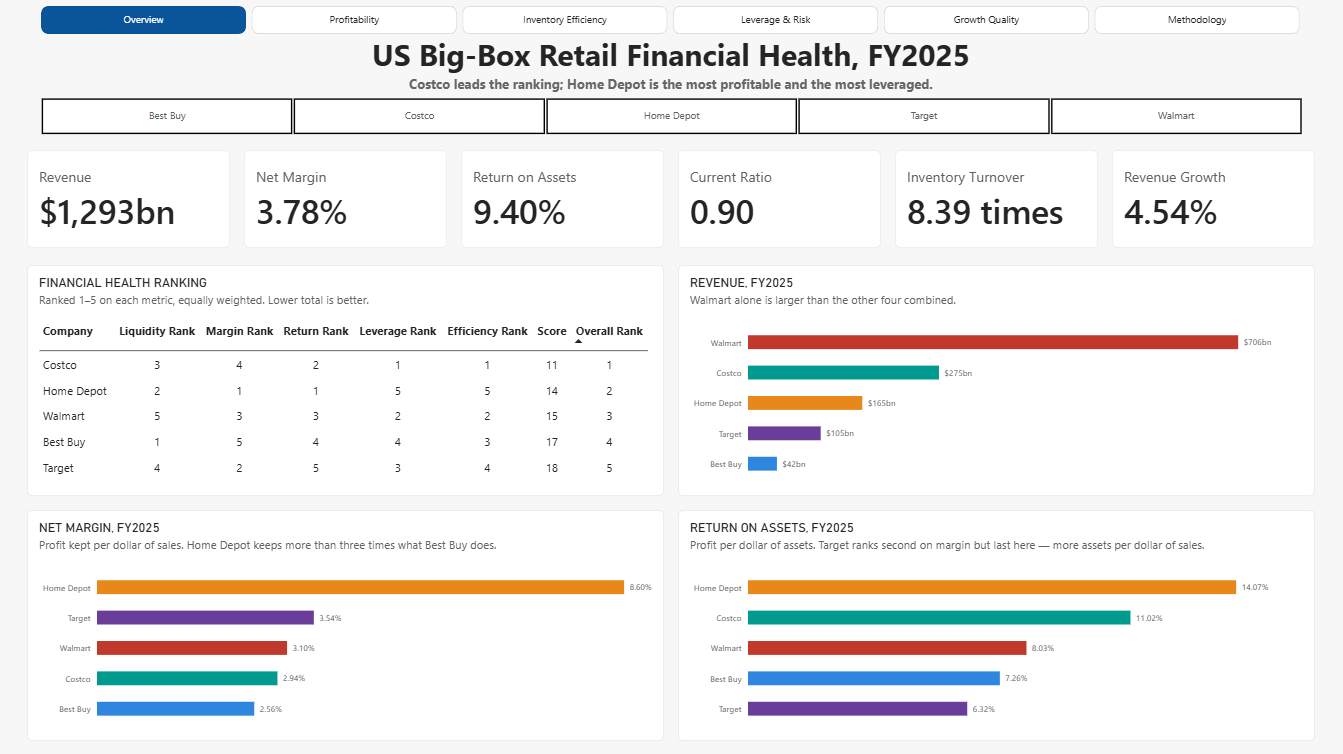

Layout of this report page (visuals, bound fields, positions):
{"tool":"powerbi","page":{"name":"Overview","canvas":[1920,1080],"ordinal":0},"visuals":[{"type":"cardVisual","fields":{"Data":["_Measures.Revenue Total"]},"box":[40,216,290,140],"z":0},{"type":"cardVisual","fields":{"Data":["_Measures.Net Margin %"]},"box":[349.9,216,290,140],"z":1000},{"type":"cardVisual","fields":{"Data":["_Measures.Return on Assets %"]},"box":[659.8,216,290,140],"z":2000},{"type":"cardVisual","fields":{"Data":["_Measures.Current Ratio"]},"box":[969.6,216,290,140],"z":3000},{"type":"cardVisual","fields":{"Data":["_Measures.Inventory Turnover"]},"box":[1279.5,216,290,140],"z":4000},{"type":"slicer","fields":{"Values":["Company.Company"]},"box":[39.9,140,1840,54.5],"z":5000},{"type":"tableEx","title":"FINANCIAL HEALTH RANKING ","fields":{"Values":["Company.Company","Scorecard.Liquidity Rank","Scorecard.Margin Rank","Scorecard.Return Rank","Scorecard.Leverage Rank","Scorecard.Efficiency Rank","Scorecard.Total Score","Scorecard.Overall Rank"]},"box":[39.9,380,910,330],"z":6000},{"type":"clusteredBarChart","title":"NET MARGIN, FY2025","fields":{"Category":["Company.Company"],"Y":["_Measures.Net Margin %"]},"box":[40,730,910,330],"z":7000},{"type":"clusteredBarChart","title":"REVENUE, FY2025","fields":{"Y":["_Measures.Revenue Total"],"Category":["Company.Company"]},"box":[970,380,910,330],"z":8000},{"type":"clusteredBarChart","title":"RETURN ON ASSETS, FY2025","fields":{"Category":["Company.Company"],"Y":["_Measures.Return on Assets %"]},"box":[970,730,910,330],"z":9000},{"type":"textbox","title":"US Big-Box Retail Financial Health, FY2025","box":[40,50,1840,60],"z":10000},{"type":"textbox","title":"Costco leads the ranking; Home Depot is the most profitable and the most leveraged. ","box":[40,108,1840,26],"z":11000},{"type":"cardVisual","fields":{"Data":["_Measures.Revenue Growth % (Weighted)"]},"box":[1590,216,290,140],"z":12000},{"type":"pageNavigator","box":[60,10,1800,40],"z":13000}]}

Visuals, with their boxes in screenshot pixels (x1, y1, x2, y2), scaled from the page's 1920x1080 canvas onto the 1343x754 screenshot:
cardVisual - _Measures.Revenue Total: (x1=28, y1=151, x2=231, y2=249)
cardVisual - _Measures.Net Margin %: (x1=245, y1=151, x2=448, y2=249)
cardVisual - _Measures.Return on Assets %: (x1=462, y1=151, x2=664, y2=249)
cardVisual - _Measures.Current Ratio: (x1=678, y1=151, x2=881, y2=249)
cardVisual - _Measures.Inventory Turnover: (x1=895, y1=151, x2=1098, y2=249)
slicer - Company.Company: (x1=28, y1=98, x2=1315, y2=136)
"FINANCIAL HEALTH RANKING " tableEx: (x1=28, y1=265, x2=664, y2=496)
"NET MARGIN, FY2025" clusteredBarChart: (x1=28, y1=510, x2=665, y2=740)
"REVENUE, FY2025" clusteredBarChart: (x1=678, y1=265, x2=1315, y2=496)
"RETURN ON ASSETS, FY2025" clusteredBarChart: (x1=678, y1=510, x2=1315, y2=740)
"US Big-Box Retail Financial Health, FY2025" textbox: (x1=28, y1=35, x2=1315, y2=77)
"Costco leads the ranking; Home Depot is the most profitable and the most leveraged. " textbox: (x1=28, y1=75, x2=1315, y2=94)
cardVisual - _Measures.Revenue Growth % (Weighted): (x1=1112, y1=151, x2=1315, y2=249)
pageNavigator: (x1=42, y1=7, x2=1301, y2=35)
